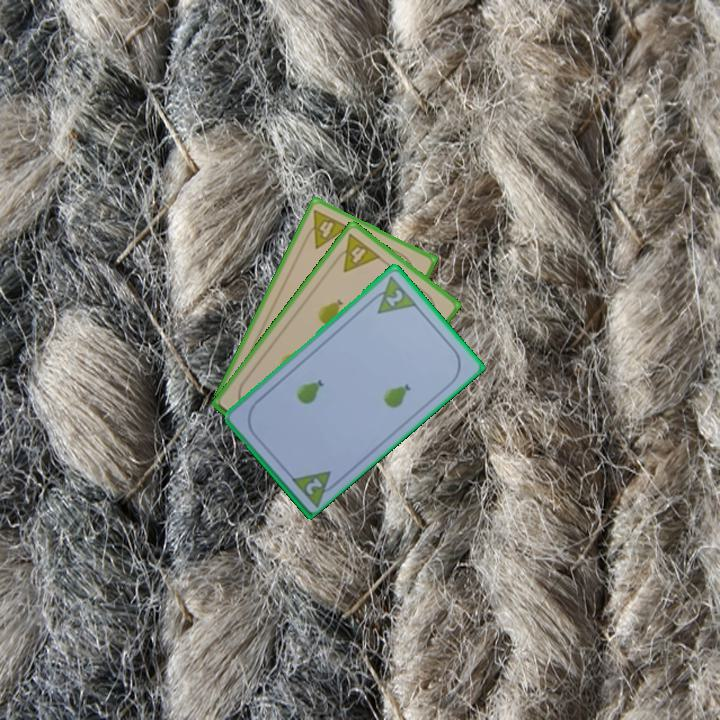2p: (382, 285, 406, 309), (302, 474, 326, 497)
4p: (329, 230, 384, 275), (300, 206, 352, 251)
